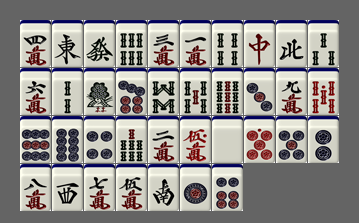0m: (180, 116, 211, 163)
0p: (244, 116, 275, 163)
0s: (308, 68, 339, 115)
1m: (180, 20, 211, 67)
1p: (180, 164, 211, 211)
1s: (84, 68, 115, 115)
1z: (52, 20, 83, 67)
2m: (148, 116, 179, 163)
2p: (308, 116, 339, 163)
2s: (52, 68, 83, 115)
2z: (148, 164, 179, 211)
3m: (148, 20, 179, 67)
3p: (244, 68, 275, 115)
3s: (308, 20, 339, 67)
3z: (52, 164, 83, 211)
4m: (20, 20, 51, 67)
4p: (84, 116, 115, 163)
4s: (212, 20, 243, 67)
4z: (276, 20, 307, 67)
5m: (116, 164, 147, 211)
5p: (276, 116, 307, 163)
5s: (180, 68, 211, 115)
5z: (212, 116, 243, 163)
6m: (20, 68, 51, 115)
6p: (212, 164, 243, 211)
6s: (116, 20, 147, 67)
6z: (84, 20, 115, 67)
7m: (84, 164, 115, 211)
7p: (116, 68, 147, 115)
7s: (116, 116, 147, 163)
7z: (244, 20, 275, 67)
8m: (20, 164, 51, 211)
8p: (52, 116, 83, 163)
8s: (148, 68, 179, 115)
9m: (276, 68, 307, 115)
9p: (20, 116, 51, 163)
9s: (212, 68, 243, 115)
